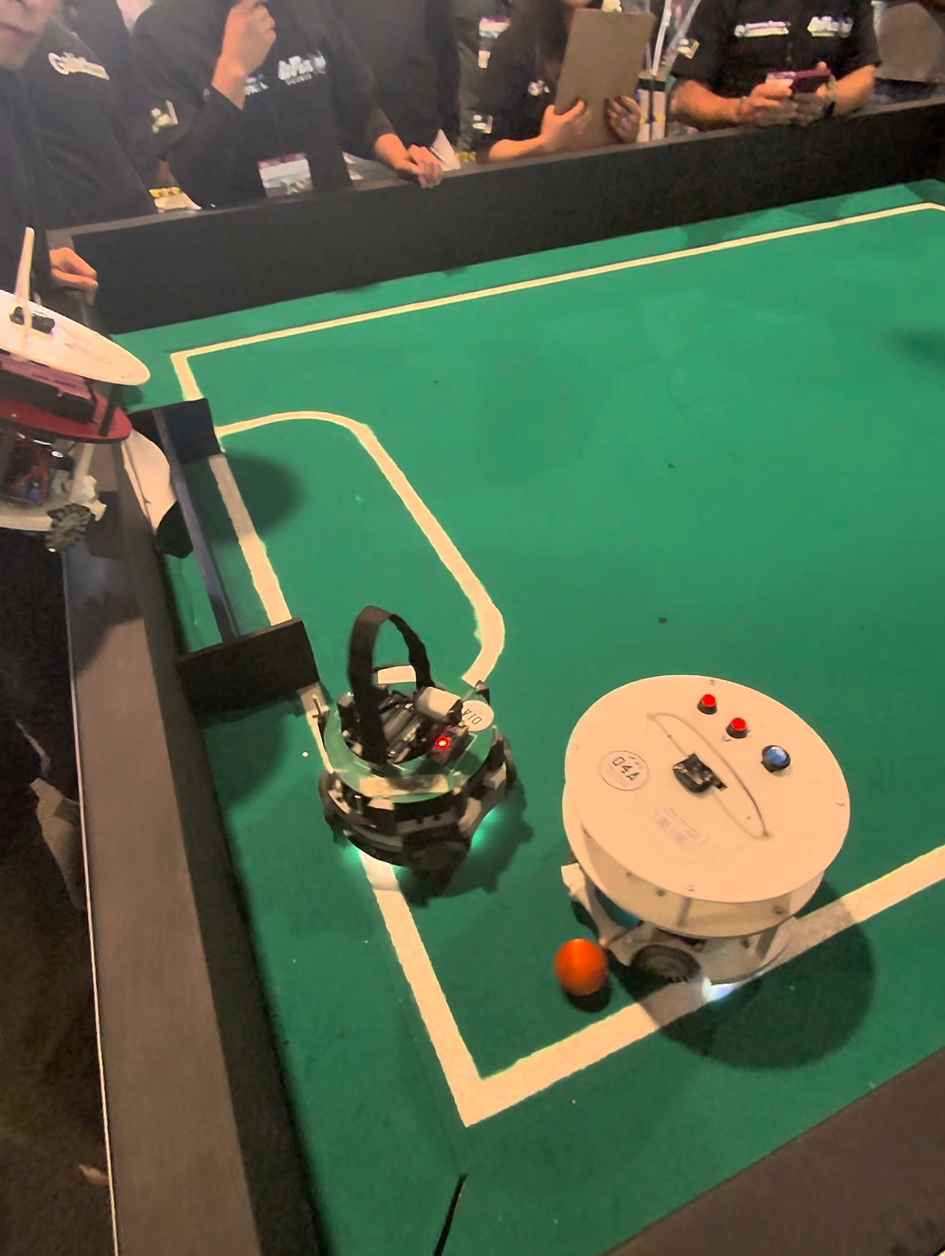Robot: (563, 665, 836, 1012), (298, 578, 540, 884)
pelota: (552, 938, 610, 1013)
